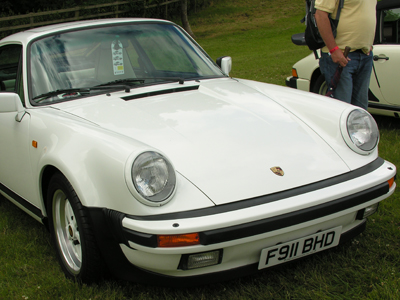licencePlate: (260, 221, 358, 276)
